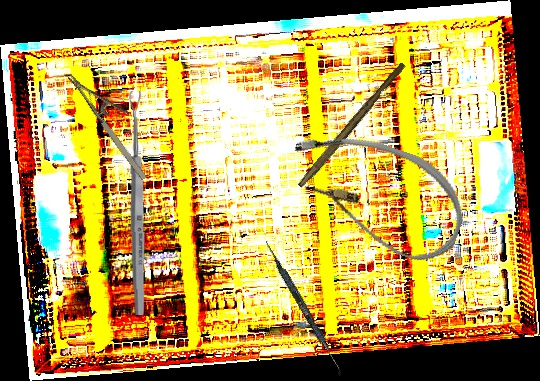Cannula: (273, 117, 478, 271)
Needle Holder: (66, 58, 165, 183)
Scalpel Handle: (297, 59, 407, 192)
Spatula Surgical: (260, 240, 348, 377)
Surgical Spoon: (128, 90, 147, 316)
